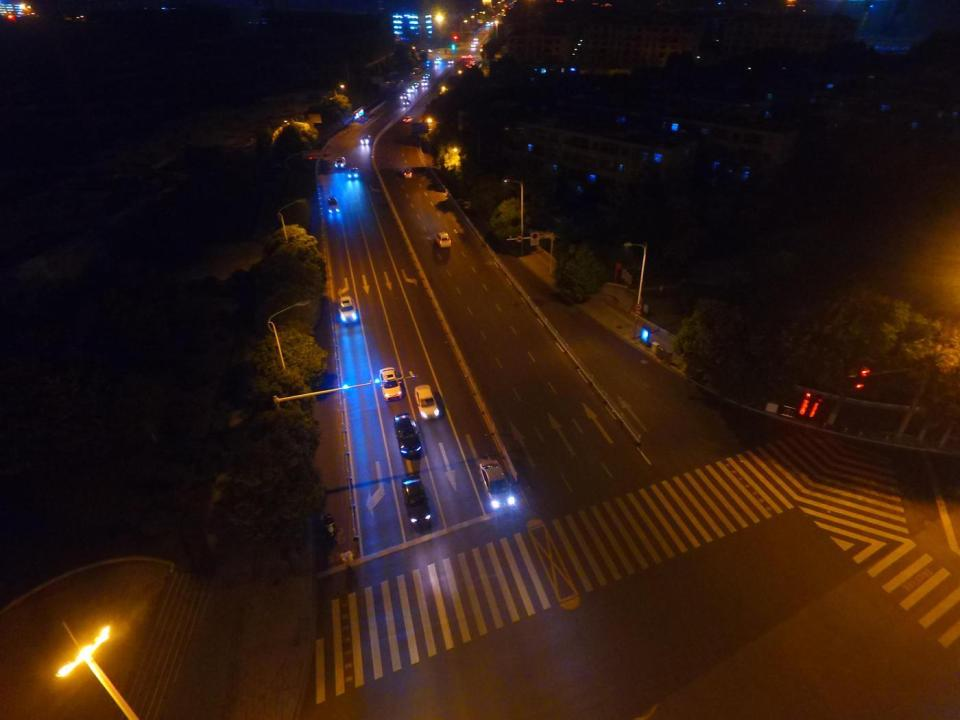car: (480, 462, 515, 510), (403, 475, 432, 528), (394, 414, 422, 459), (376, 367, 404, 403), (413, 384, 439, 420), (336, 296, 357, 326), (435, 230, 452, 250), (326, 195, 341, 214), (333, 157, 346, 169), (358, 134, 372, 145), (348, 167, 359, 180), (401, 167, 413, 178), (407, 87, 416, 95), (421, 74, 430, 82), (400, 93, 410, 100), (434, 56, 442, 64), (404, 99, 412, 106), (447, 58, 455, 65), (420, 80, 428, 86)
